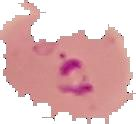parasitized: (52, 49, 106, 103)
